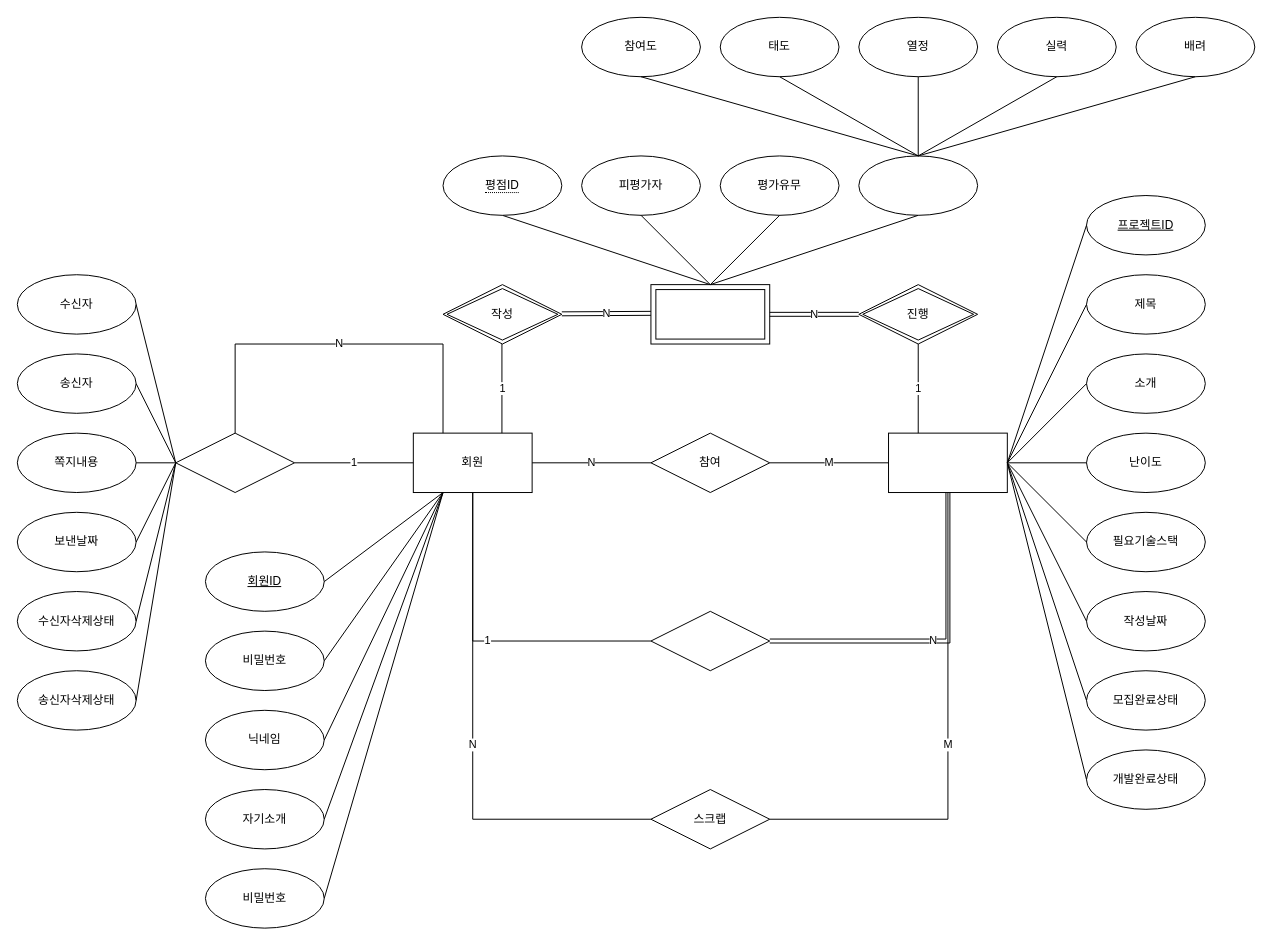
Image size: 1272x945. Some labels were removed from this diagram. Each missing label, with the centre of its shape:
"등록" belongs at (x=710, y=640).
"쪽지" belongs at (x=235, y=462).
"평가항목" belongs at (x=918, y=185).
"평점" belongs at (x=710, y=314).
"프로젝트" belongs at (x=947, y=462).
